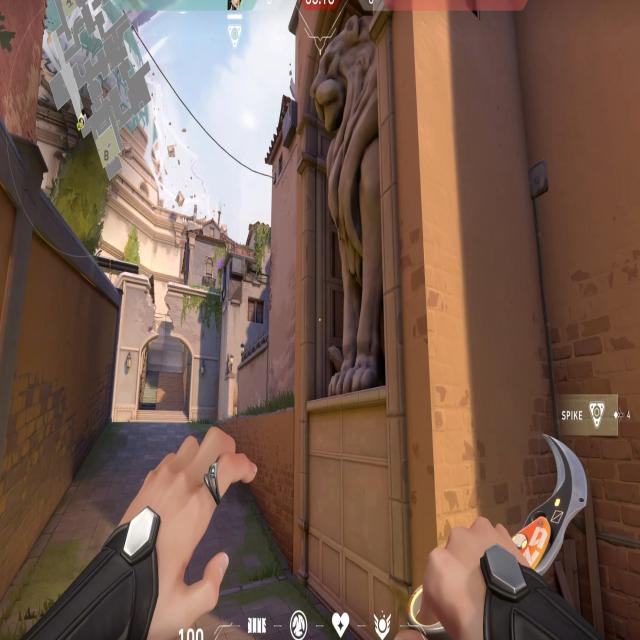Lion_Corner: (290, 12, 406, 461)
